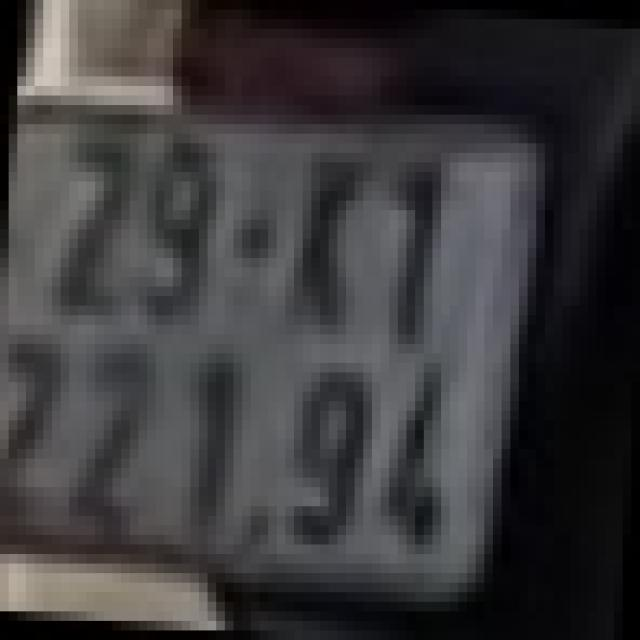1: (380, 162, 450, 344)
4: (381, 363, 458, 554)
9: (285, 363, 372, 544), (138, 143, 216, 325)
K: (285, 153, 372, 334)
Z: (52, 144, 130, 316)
